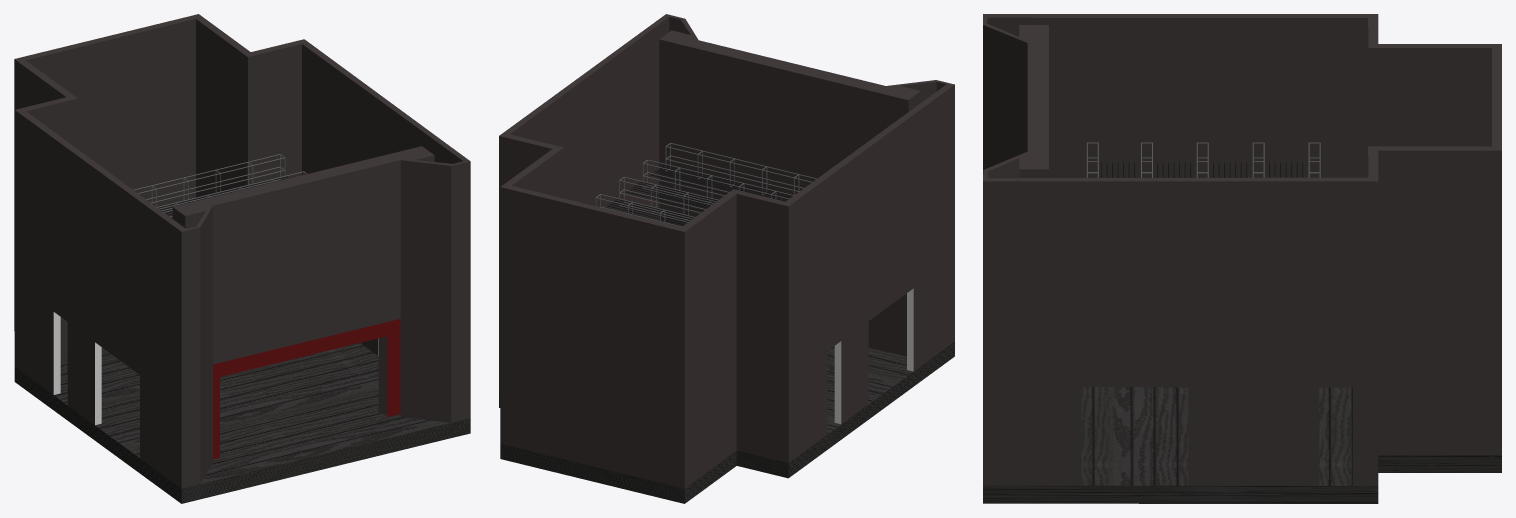
Rendered from сцена1.fbx.
The picture shows the model from 3 angles, left to right: view 1: azimuth 30°, elevation 25°; view 2: azimuth 150°, elevation 25°; view 3: azimuth 270°, elevation 25°; orthographic projection. The views are drawn at different scales.
Visible parts, largest first — view 1: Выдавливание, Выдавливание_2, Шапка_2_3, Выдавливание_1, Шапка_2, Выдавливание_5, Шапка_2_2, Куб_5, Выдавливание_4, Выдавливание_3, Куб_6, Куб_2_2; view 2: Выдавливание, Выдавливание_2, Выдавливание_1, Шапка_2, Шапка_2_3, Шапка_2_2, Куб_2, Куб, Куб_3, Куб_6, Куб_2_2, Куб_4; view 3: Выдавливание, Шапка_2_3, Выдавливание_1, Шапка_2, Шапка_2_2.
Boxes of the visible parts, bbox=[...] form: Выдавливание: bbox=[14, 19, 470, 488]; Выдавливание_2: bbox=[213, 160, 400, 364]; Шапка_2_3: bbox=[54, 343, 450, 483]; Выдавливание_1: bbox=[14, 316, 470, 503]; Шапка_2: bbox=[14, 14, 470, 231]; Выдавливание_5: bbox=[213, 320, 396, 378]; Шапка_2_2: bbox=[183, 150, 424, 211]; Куб_5: bbox=[133, 154, 285, 212]; Выдавливание_4: bbox=[387, 319, 400, 417]; Выдавливание_3: bbox=[213, 363, 219, 459]; Куб_6: bbox=[53, 312, 60, 394]; Куб_2_2: bbox=[95, 338, 378, 425]; Выдавливание: bbox=[499, 17, 954, 488]; Выдавливание_2: bbox=[702, 50, 862, 208]; Выдавливание_1: bbox=[499, 341, 954, 503]; Шапка_2: bbox=[499, 14, 954, 231]; Шапка_2_3: bbox=[827, 346, 913, 434]; Шапка_2_2: bbox=[669, 34, 910, 95]; Куб_2: bbox=[665, 143, 816, 195]; Куб: bbox=[642, 159, 793, 205]; Куб_3: bbox=[619, 176, 718, 222]; Куб_6: bbox=[834, 341, 841, 424]; Куб_2_2: bbox=[907, 288, 913, 371]; Куб_4: bbox=[595, 194, 694, 226]; Выдавливание: bbox=[983, 17, 1501, 485]; Шапка_2_3: bbox=[1081, 387, 1352, 485]; Выдавливание_1: bbox=[983, 455, 1501, 503]; Шапка_2: bbox=[983, 14, 1501, 181]; Шапка_2_2: bbox=[1027, 28, 1048, 165].
Size of the model in its own units: 1806 by 1621 by 2364.
Materials: 6 (1 with a texture image).
